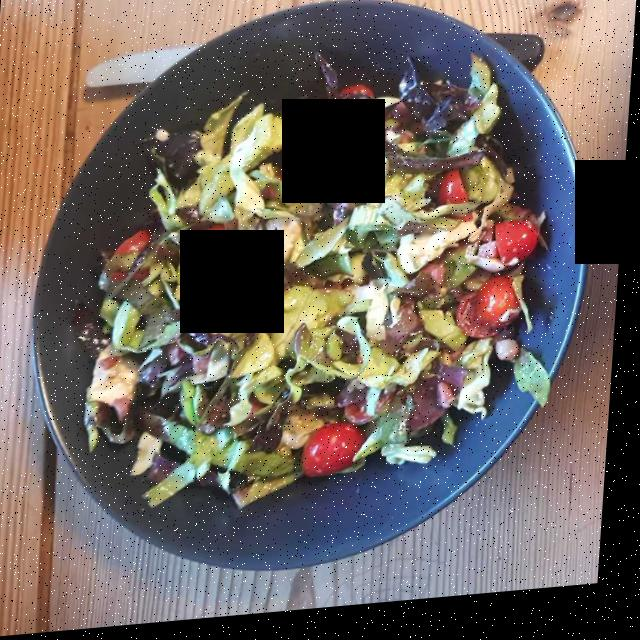mixed-salad-chopped-without-sauce: (84, 87, 541, 525)
tomato-raw: (108, 85, 554, 491)
